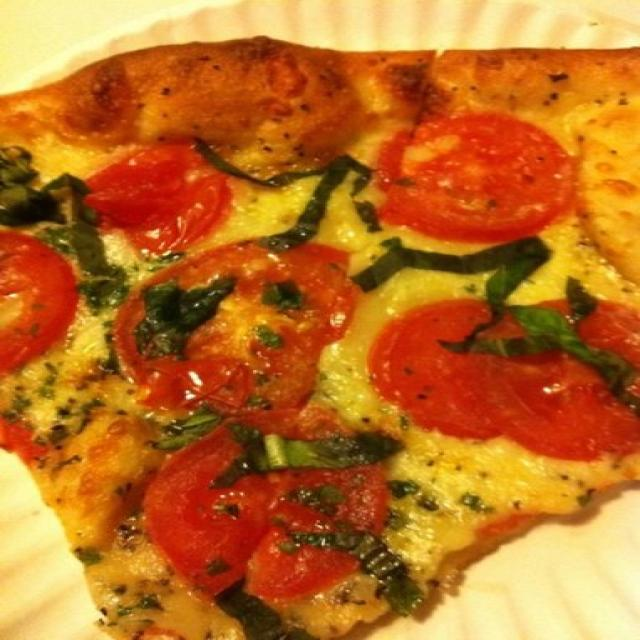Basil: (497, 293, 640, 399), (230, 148, 356, 236), (364, 238, 550, 292), (224, 426, 412, 476), (140, 276, 250, 358), (332, 510, 422, 606), (4, 153, 89, 228), (211, 578, 300, 639)
Pizza: (0, 38, 640, 640)
Tomato: (155, 408, 395, 586), (113, 246, 348, 407), (366, 108, 572, 235), (492, 292, 640, 460), (371, 299, 526, 442), (71, 131, 220, 250), (0, 231, 81, 370)
